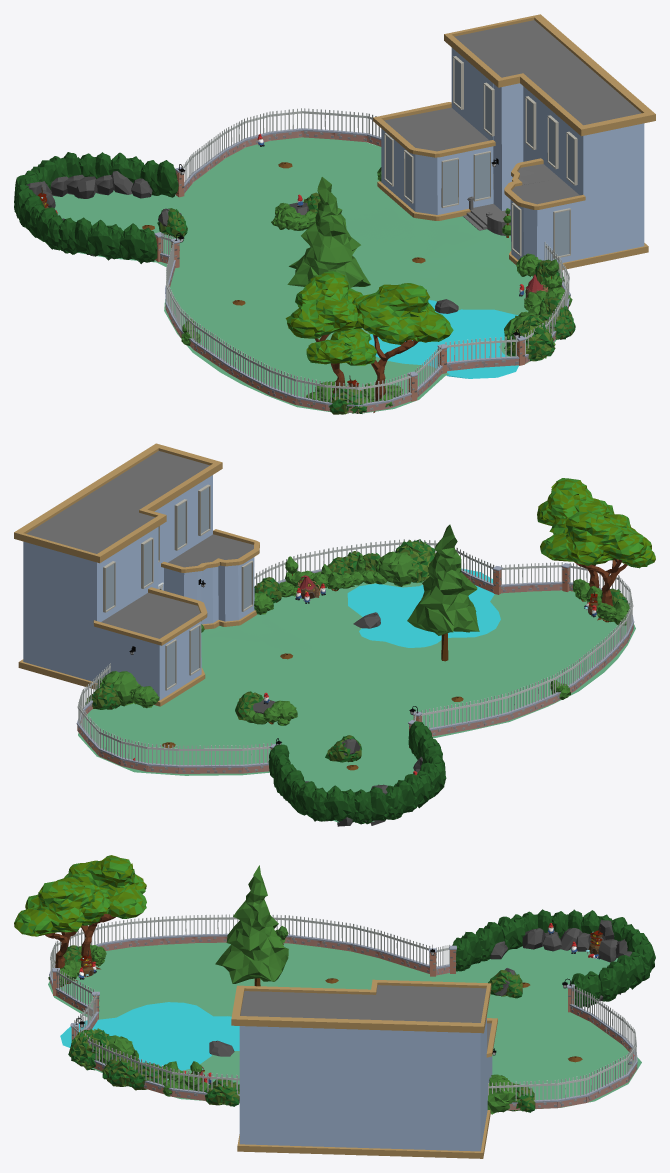
The model's file is Level_Intermediate_Medium_2_grass_mesh.fbx.
3 renders of one model, top to bottom at view 1: azimuth 30°, elevation 25°; view 2: azimuth 150°, elevation 25°; view 3: azimuth 270°, elevation 25°, orthographic. The views are drawn at different scales.
Visible parts, largest first — view 1: House_large.001, Grass_mesh, Plane.001, TreeBase.005, TreeBase.006, water, SpruceTree.001, UlgyBush.008, Bush.023, Bush.024, Bush.034, Bush.025 (+13 smaller); view 2: House_large.001, Plane.001, Grass_mesh, TreeBase.006, water, SpruceTree.001, TreeBase.005, BigBoyBush.002, Bush.029, Bush.031, Bush.030, UlgyBush.008 (+17 smaller); view 3: House_large.001, Grass_mesh, Plane.001, water, SpruceTree.001, TreeBase.005, TreeBase.006, UlgyBush.008, Bush.033, Bush.023, BigBoyBush.004, UlgyBush.009 (+30 smaller).
Boxes of the visible parts, x1,y1,x2,y2 form: House_large.001: (373,14,655,269); Grass_mesh: (57,141,528,396); Plane.001: (52,137,556,413); TreeBase.005: (330,283,453,412); TreeBase.006: (285,271,363,393); water: (369,300,518,378); SpruceTree.001: (287,177,370,288); UlgyBush.008: (504,315,555,361); Bush.023: (119,223,157,263); Bush.024: (86,219,123,260); Bush.034: (140,160,178,197); Bush.025: (58,217,91,254); House_large.001: (14,443,259,706); Plane.001: (78,580,635,822); Grass_mesh: (93,593,624,791); TreeBase.006: (540,511,655,620); water: (347,568,500,647); SpruceTree.001: (407,524,479,661); TreeBase.005: (537,478,614,603); BigBoyBush.002: (375,551,418,586); Bush.029: (354,786,388,824); Bush.031: (295,781,326,821); Bush.030: (324,785,355,822); UlgyBush.008: (395,539,435,582); House_large.001: (231,979,497,1158); Grass_mesh: (62,945,631,1099); Plane.001: (48,942,641,1110); water: (60,1002,239,1070); SpruceTree.001: (215,865,288,986); TreeBase.005: (14,877,109,980); TreeBase.006: (64,855,146,969); UlgyBush.008: (68,1028,111,1070); Bush.033: (598,961,627,1001); Bush.023: (452,932,482,971); BigBoyBush.004: (487,1077,515,1114); UlgyBush.009: (204,1079,239,1106).
Size of the model in its own units: 13790 by 4326 by 16887.
